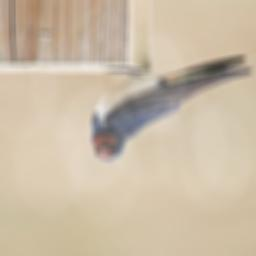Swallow: (88, 40, 256, 164)
